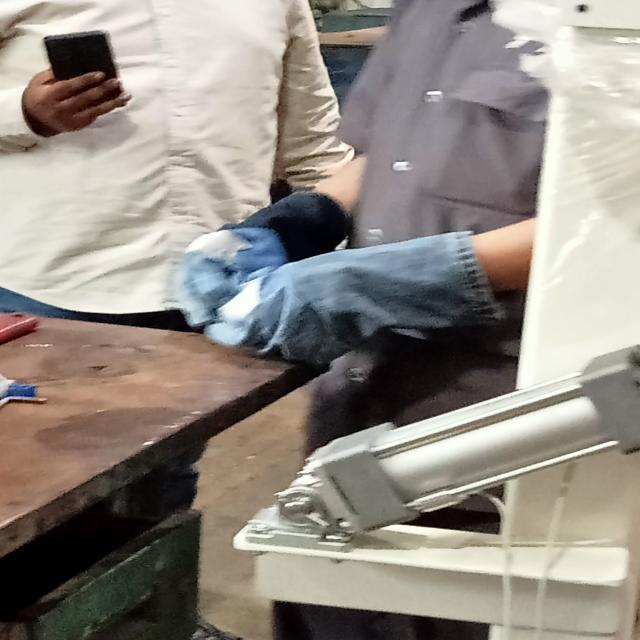Gloves-Detection: (179, 229, 458, 357)
